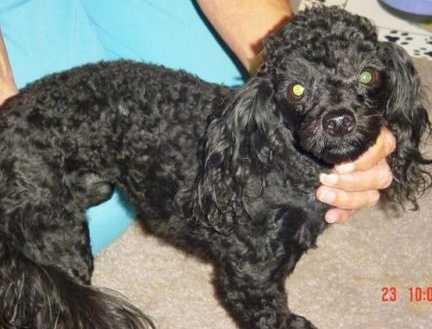dog: (30, 33, 408, 296)
